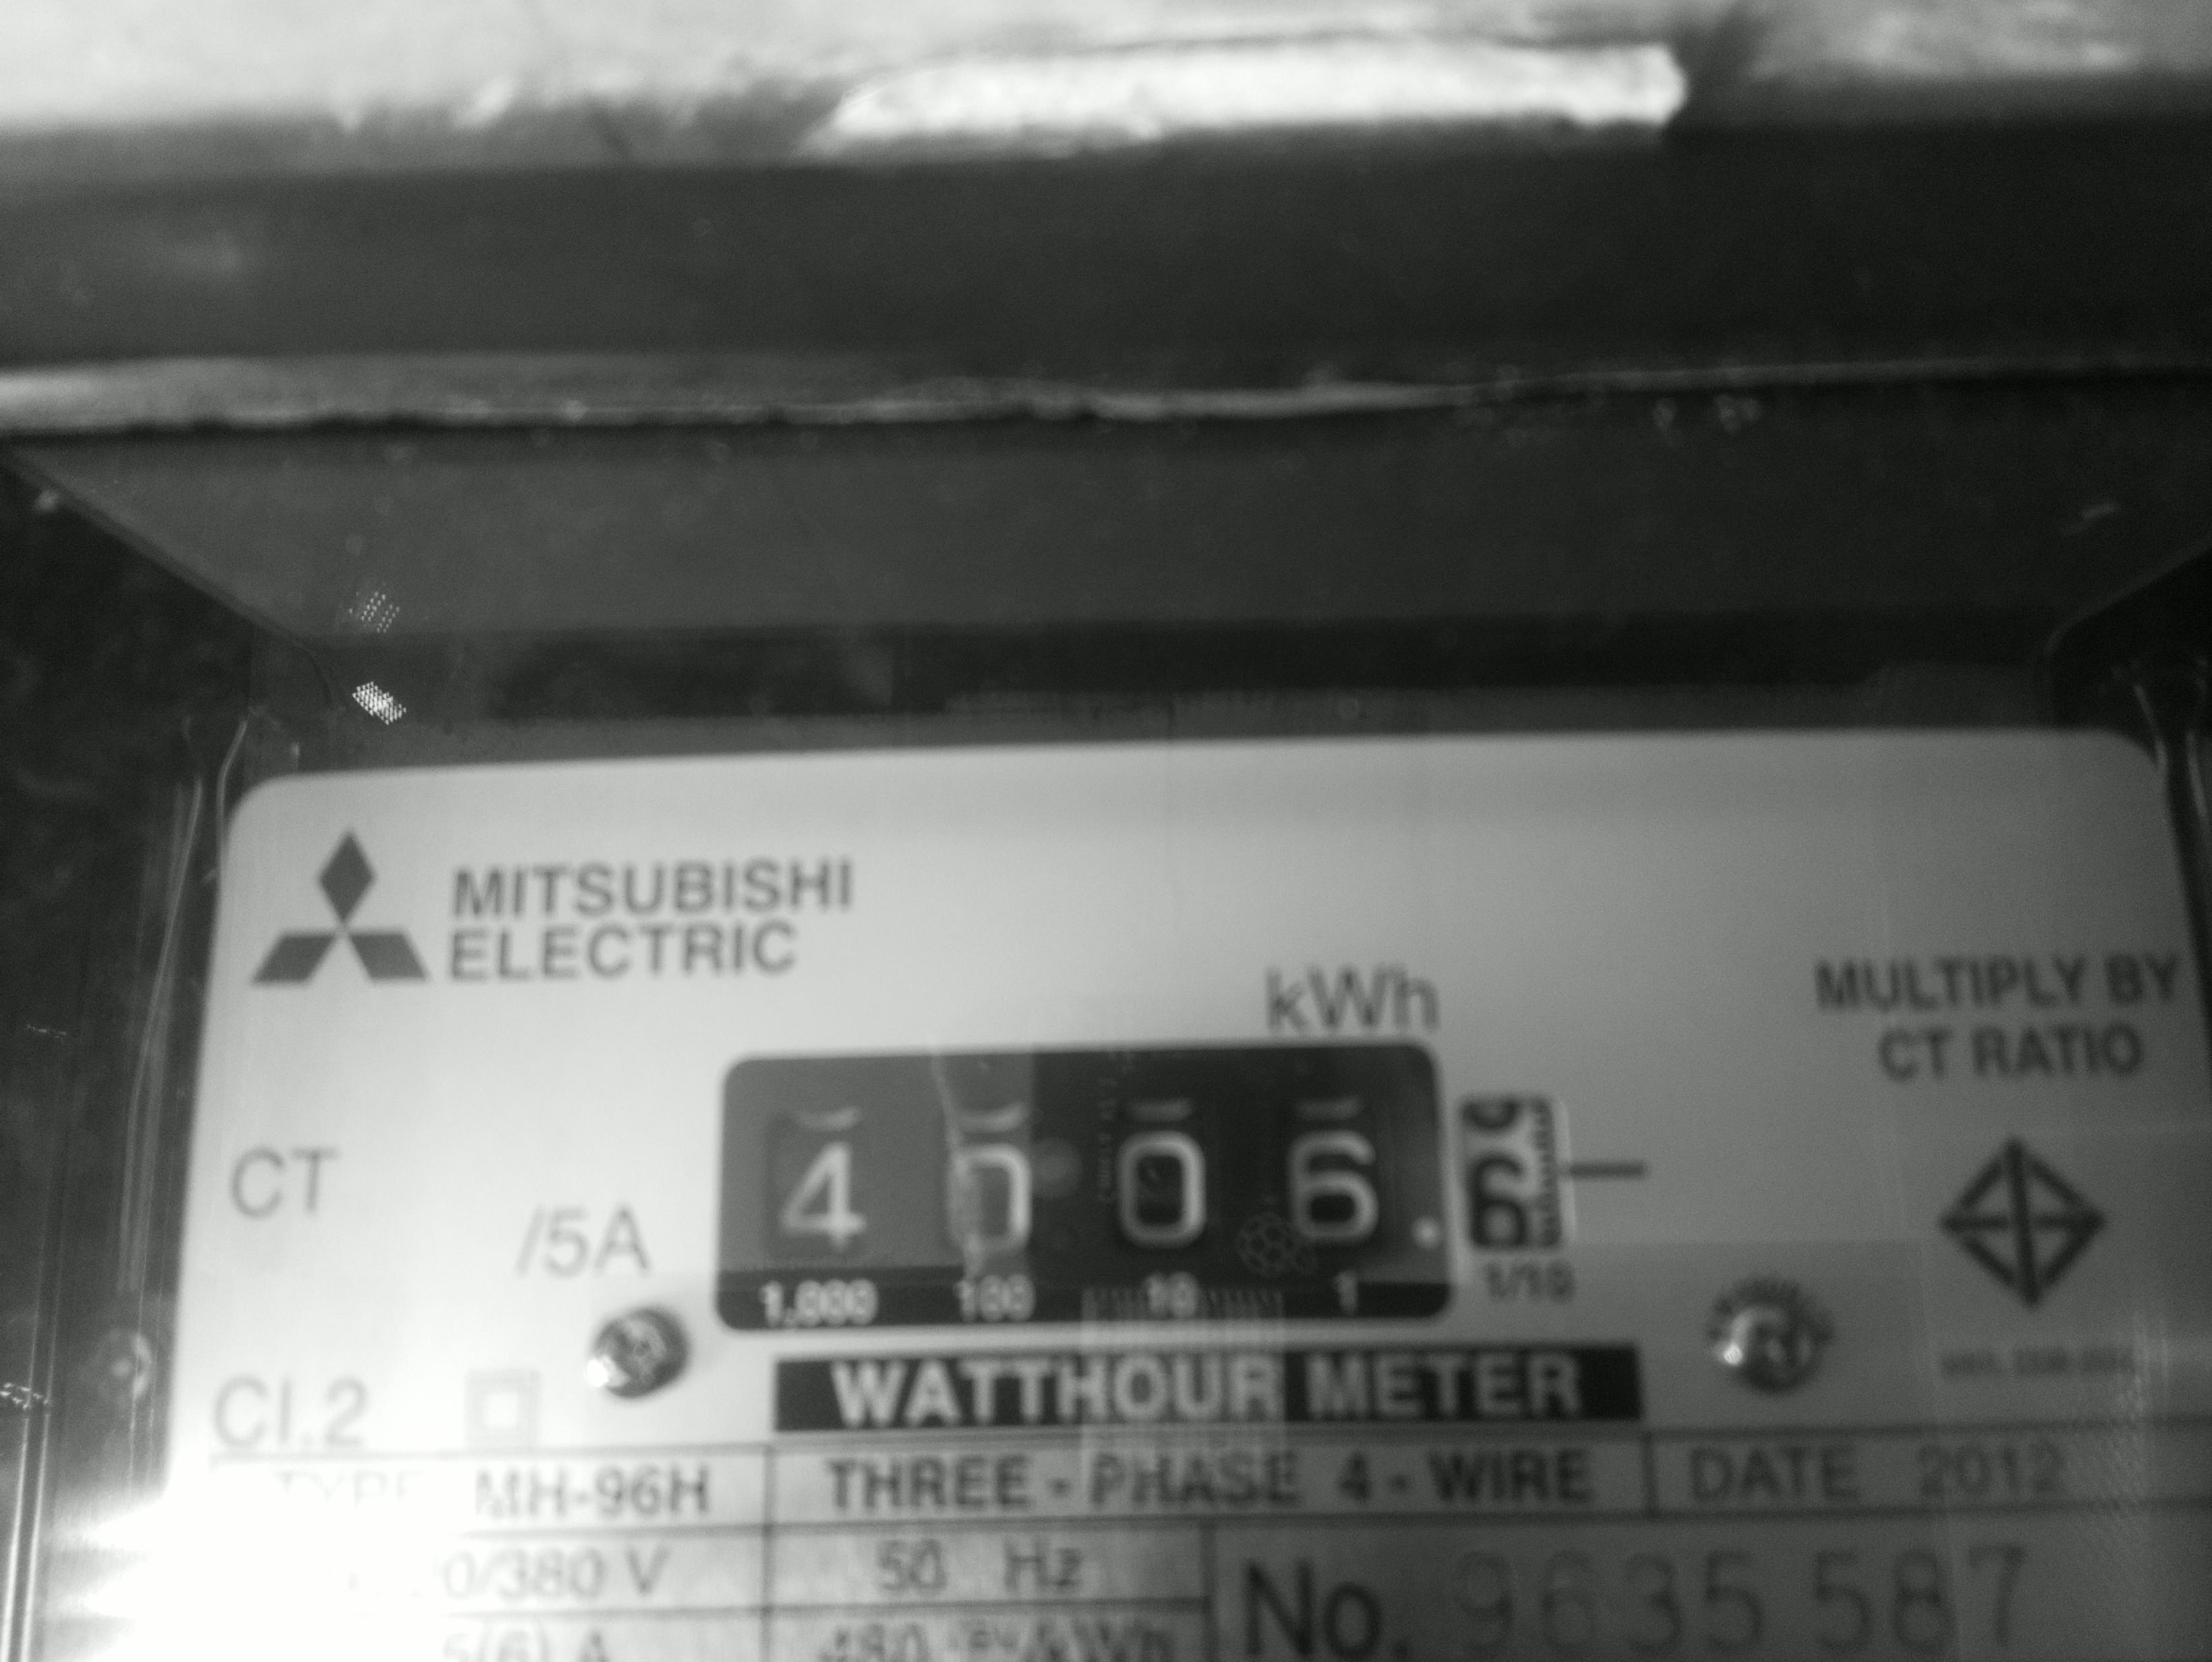meter_box: (690, 1035, 1631, 1351)
